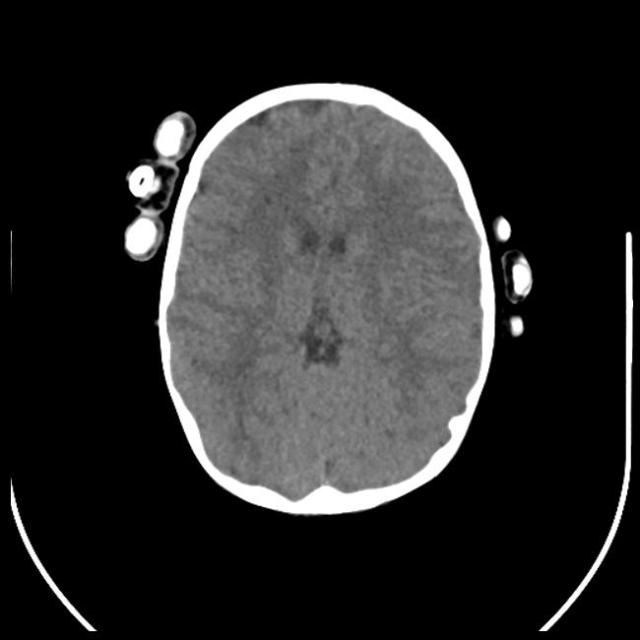lesion: (402, 263, 469, 439)
